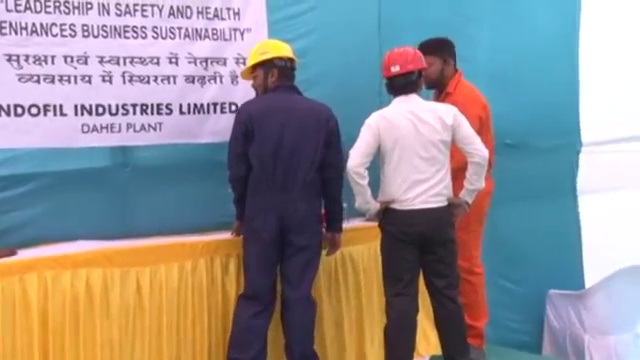helmet: (238, 39, 299, 79), (382, 45, 427, 77)
helmet_off: (418, 37, 461, 90)
helmet_on: (236, 39, 299, 95), (380, 44, 428, 100)
person: (345, 45, 490, 360), (224, 38, 343, 360), (415, 36, 496, 358)
